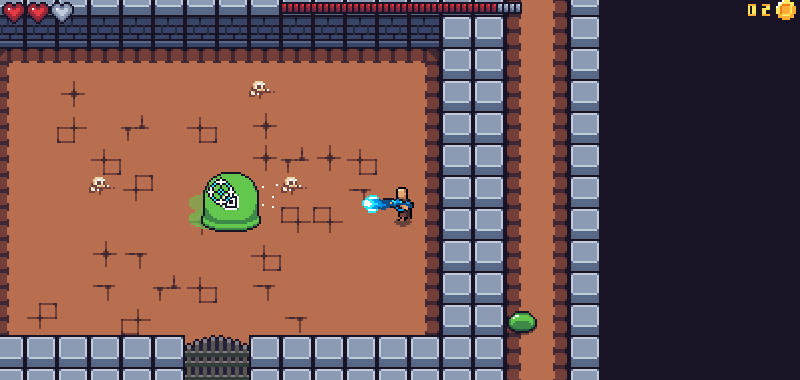enemy_slug: (504, 306, 540, 336)
enemy_slug_boss: (185, 155, 278, 245)
trap_door: (180, 331, 253, 380)
